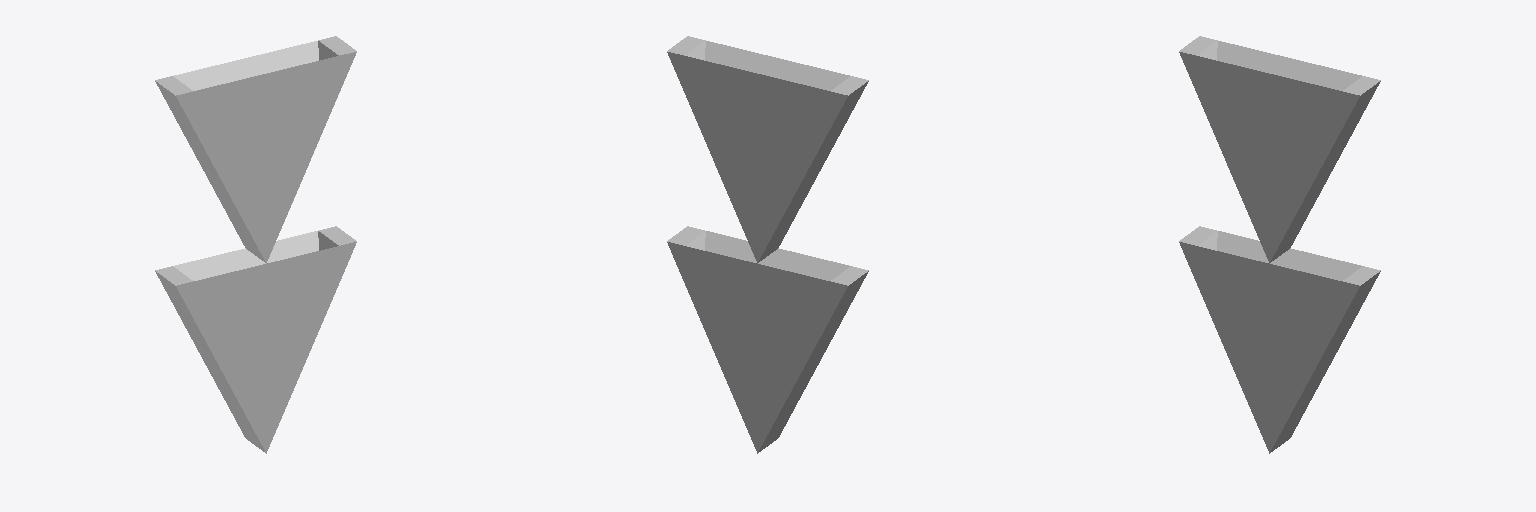
The model's file is SpeedDown.obj.
3 views of the same model, side by side, from view 1: azimuth 30°, elevation 25°; view 2: azimuth 150°, elevation 25°; view 3: azimuth 330°, elevation 25° (orthographic).
Parts seen in each view (by area): view 1: mergedBlocks; view 2: mergedBlocks; view 3: mergedBlocks.
Boxes of the visible parts, <box> form: mergedBlocks: <box>155,36,356,453</box>; mergedBlocks: <box>667,36,868,453</box>; mergedBlocks: <box>1179,36,1380,453</box>.
Size of the model in its own units: 1 by 2 by 0.2.